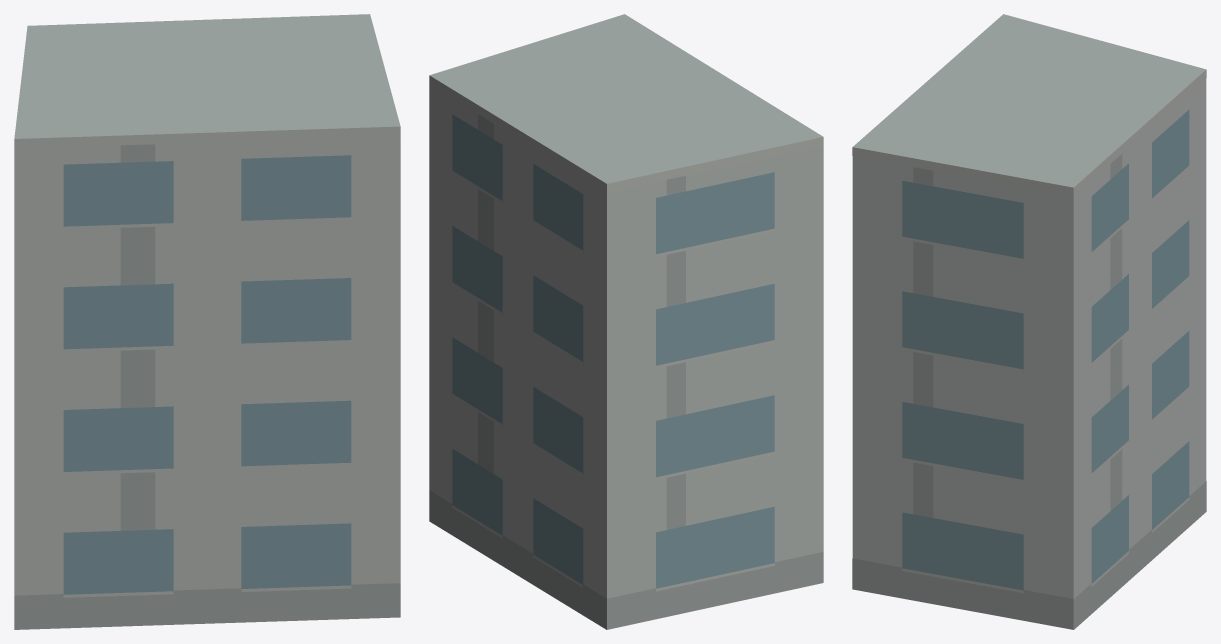
The model's file is residential-a6dc9492-0527-4cae-815f-0ee20b7d91fc.glb.
3 renders of one model, left to right at view 1: azimuth 30°, elevation 25°; view 2: azimuth 150°, elevation 25°; view 3: azimuth 270°, elevation 25°, orthographic. The views are drawn at different scales.
Parts seen in each view (by area): view 1: residential-a6dc9492-0527-4cae-815f-0ee20b7d91fc.tmp; view 2: residential-a6dc9492-0527-4cae-815f-0ee20b7d91fc.tmp; view 3: residential-a6dc9492-0527-4cae-815f-0ee20b7d91fc.tmp.
Boxes of the visible parts, x1,y1,x2,y2 form: residential-a6dc9492-0527-4cae-815f-0ee20b7d91fc.tmp: [14, 14, 400, 629]; residential-a6dc9492-0527-4cae-815f-0ee20b7d91fc.tmp: [429, 14, 823, 629]; residential-a6dc9492-0527-4cae-815f-0ee20b7d91fc.tmp: [852, 14, 1206, 629].
Bounding box in the file's own units: 10.28 × 12.2 × 8.86.
